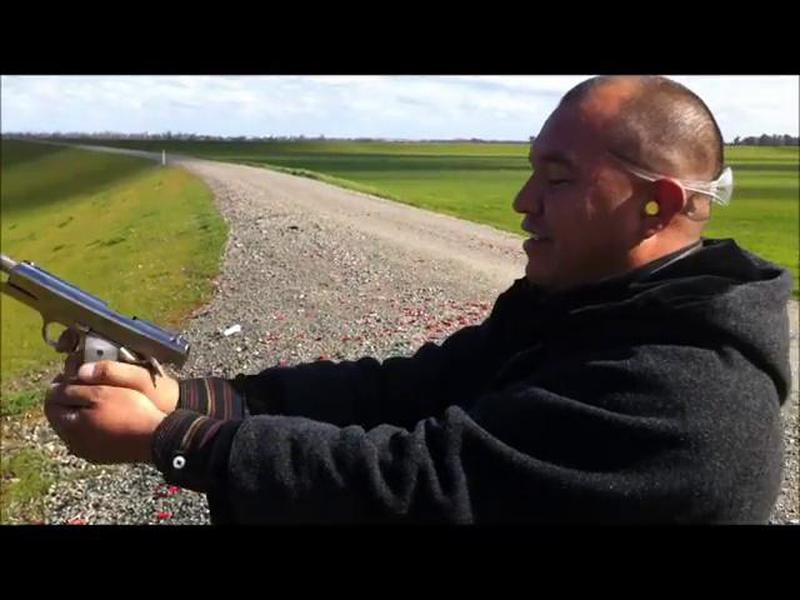Pistola: (1, 217, 200, 431)
